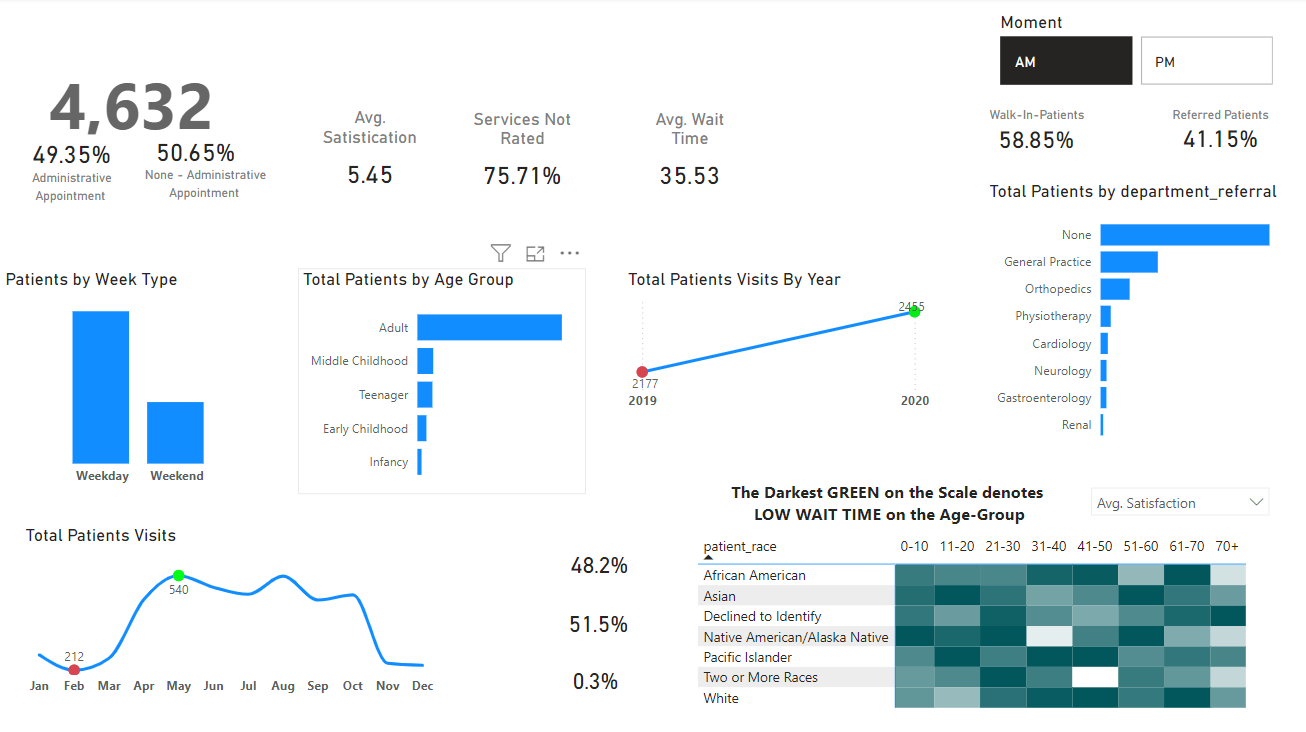

Layout of this report page (visuals, bound fields, positions):
{"tool":"powerbi","page":{"name":"Page 1","canvas":[1280,720],"ordinal":0},"visuals":[{"type":"card","fields":{"Values":["Calculations.Total Patients"]},"box":[30.2,66.4,201.5,74.8],"z":0},{"type":"card","fields":{"Values":["Calculations.NonAdministrative Schedule Percenatge"]},"box":[144.3,129.6,97.8,44],"z":1000},{"type":"card","fields":{"Values":["Calculations.Administrative Schedule Percenatge"]},"box":[22,130.8,100.3,45.2],"z":2000},{"type":"pivotTable","fields":{"Values":["Calculations.Average Satisfaction Score"],"Rows":["Patients Dataset.patient_race"],"Columns":["Patients Dataset.Age Buckets"]},"box":[680.2,515.4,573.3,199.3],"z":3000},{"type":"slicer","fields":{"Values":["Parameter.Parameter"]},"box":[1087,469.3,166.5,51.9],"z":4000},{"type":"clusteredBarChart","fields":{"Category":["Patients Dataset.Age Group"],"Y":["Calculations.Total Patients"]},"box":[290.8,231.6,293.2,254.6],"z":5000},{"type":"areaChart","title":"Total Patients Visits By month","fields":{"Category":["Date.Month"],"Y":["Calculations.Total Patients","Calculations.Values Max Point(Month)"]},"box":[18.1,509.1,419.8,193],"z":6000},{"type":"advancedSlicerVisual","fields":{"Values":["Patients Dataset.Moment"]},"box":[1080.9,32.3,179.2,52.3],"z":7000},{"type":"lineChart","title":"Total Patients Visits By Year","fields":{"Category":["Date.Year"],"Y":["Calculations.Total Patients","Calculations.Values Max Point(Year)"]},"box":[615.3,231.6,312.5,201.5],"z":8000},{"type":"barChart","fields":{"Y":["Calculations.Total Patients"],"Category":["Patients Dataset.department_referral"]},"box":[954.3,179.8,299.2,253.4],"z":9000},{"type":"card","fields":{"Values":["Calculations.% Referred Patients"]},"box":[1138.9,111,114.6,44.6],"z":10000},{"type":"card","fields":{"Values":["Calculations.% Un Referred Patients"]},"box":[954.3,115.8,123.1,39.8],"z":11000},{"type":"card","fields":{"Values":["Calculations.HeatMap Caption"]},"box":[679.2,459.7,343.8,68.8],"z":12000},{"type":"textbox","box":[18.3,161.4,107.6,46.5],"z":13000},{"type":"textbox","box":[133.3,159,139.4,57.5],"z":14000},{"type":"card","title":"Avg. Satistication","fields":{"Values":["Calculations.Average Satisfaction Score"]},"box":[299.2,108.6,112.2,67.6],"z":15000},{"type":"card","title":"Services Not Rated","fields":{"Values":["Calculations.% No Rating"]},"box":[454.8,108.6,111,67.6],"z":16000},{"type":"card","title":"Avg. Wait Time","fields":{"Values":["Calculations.Average Wait time"]},"box":[621.3,107.4,111,68.8],"z":17000},{"type":"textbox","box":[947.1,95.5,139.4,34.2],"z":18000},{"type":"textbox","box":[1126.8,95.5,139.4,30.6],"z":19000},{"type":"columnChart","title":"Patients by Week Type","fields":{"Y":["Calculations.Total Patients"],"Category":["Date.WeekType"]},"box":[8.4,231.6,272.7,254.6],"z":20000},{"type":"card","fields":{"Values":["Calculations.% Female Visit"]},"box":[539.3,531.1,92.9,47.7],"z":21000},{"type":"card","fields":{"Values":["Calculations.% Male Visit"]},"box":[538.1,591,92.9,42.8],"z":22000},{"type":"card","fields":{"Values":["Calculations.% UnKnown Visit"]},"box":[535.7,644.8,92.9,46.5],"z":23000},{"type":"textbox","box":[30.2,55.5,220.8,57.9],"z":24000},{"type":"PBI_CV_25997FEB_F466_44FA_B562_AC4063283C4C","fields":{"axis":["Date.Month"],"measure":["Calculations.Average Satisfaction Score"]},"box":[296.8,160.5,123.1,48.3],"z":25000},{"type":"PBI_CV_25997FEB_F466_44FA_B562_AC4063283C4C","fields":{"axis":["Date.Month"],"measure":["Calculations.% No Rating"]},"box":[448.8,161.7,123.1,48.3],"z":26000},{"type":"PBI_CV_25997FEB_F466_44FA_B562_AC4063283C4C","fields":{"axis":["Date.Month"],"measure":["Calculations.Average Wait time"]},"box":[615.3,159.3,123.1,48.3],"z":27000},{"type":"textbox","box":[454.8,501.9,200.3,37.4],"z":28000},{"type":"textbox","box":[546.5,521.2,72.4,36.2],"z":29000},{"type":"textbox","box":[550.1,580.3,72.4,36.2],"z":30000},{"type":"textbox","box":[535.7,626.1,86.9,36.2],"z":31000},{"type":"textbox","box":[1000.1,477.8,86.9,36.2],"z":32000},{"type":"textbox","box":[41.2,10,448.6,56.8],"z":33000}]}

Visuals, with their boxes in screenshot pixels (x1, y1, x2, y2), scaled from the page's 1280x720 canvas onto the 1306x732 screenshot:
card - Calculations.Total Patients: [x1=31, y1=68, x2=236, y2=144]
card - Calculations.NonAdministrative Schedule Percenatge: [x1=147, y1=132, x2=247, y2=176]
card - Calculations.Administrative Schedule Percenatge: [x1=22, y1=133, x2=125, y2=179]
pivotTable - Calculations.Average Satisfaction Score x Patients Dataset.patient_race: [x1=694, y1=524, x2=1279, y2=727]
slicer - Parameter.Parameter: [x1=1109, y1=477, x2=1279, y2=530]
clusteredBarChart - Patients Dataset.Age Group x Calculations.Total Patients: [x1=297, y1=235, x2=596, y2=494]
"Total Patients Visits By month" areaChart: [x1=18, y1=518, x2=447, y2=714]
advancedSlicerVisual - Patients Dataset.Moment: [x1=1103, y1=33, x2=1286, y2=86]
"Total Patients Visits By Year" lineChart: [x1=628, y1=235, x2=947, y2=440]
barChart - Calculations.Total Patients x Patients Dataset.department_referral: [x1=974, y1=183, x2=1279, y2=440]
card - Calculations.% Referred Patients: [x1=1162, y1=113, x2=1279, y2=158]
card - Calculations.% Un Referred Patients: [x1=974, y1=118, x2=1099, y2=158]
card - Calculations.HeatMap Caption: [x1=693, y1=467, x2=1044, y2=537]
textbox: [x1=19, y1=164, x2=128, y2=211]
textbox: [x1=136, y1=162, x2=278, y2=220]
"Avg. Satistication" card: [x1=305, y1=110, x2=420, y2=179]
"Services Not Rated" card: [x1=464, y1=110, x2=577, y2=179]
"Avg. Wait Time" card: [x1=634, y1=109, x2=747, y2=179]
textbox: [x1=966, y1=97, x2=1109, y2=132]
textbox: [x1=1150, y1=97, x2=1292, y2=128]
"Patients by Week Type" columnChart: [x1=9, y1=235, x2=287, y2=494]
card - Calculations.% Female Visit: [x1=550, y1=540, x2=645, y2=588]
card - Calculations.% Male Visit: [x1=549, y1=601, x2=644, y2=644]
card - Calculations.% UnKnown Visit: [x1=547, y1=656, x2=641, y2=703]
textbox: [x1=31, y1=56, x2=256, y2=115]
PBI_CV_25997FEB_F466_44FA_B562_AC4063283C4C - Date.Month x Calculations.Average Satisfaction Score: [x1=303, y1=163, x2=428, y2=212]
PBI_CV_25997FEB_F466_44FA_B562_AC4063283C4C - Date.Month x Calculations.% No Rating: [x1=458, y1=164, x2=584, y2=214]
PBI_CV_25997FEB_F466_44FA_B562_AC4063283C4C - Date.Month x Calculations.Average Wait time: [x1=628, y1=162, x2=753, y2=211]
textbox: [x1=464, y1=510, x2=668, y2=548]
textbox: [x1=558, y1=530, x2=631, y2=567]
textbox: [x1=561, y1=590, x2=635, y2=627]
textbox: [x1=547, y1=637, x2=635, y2=673]
textbox: [x1=1020, y1=486, x2=1109, y2=523]
textbox: [x1=42, y1=10, x2=500, y2=68]
